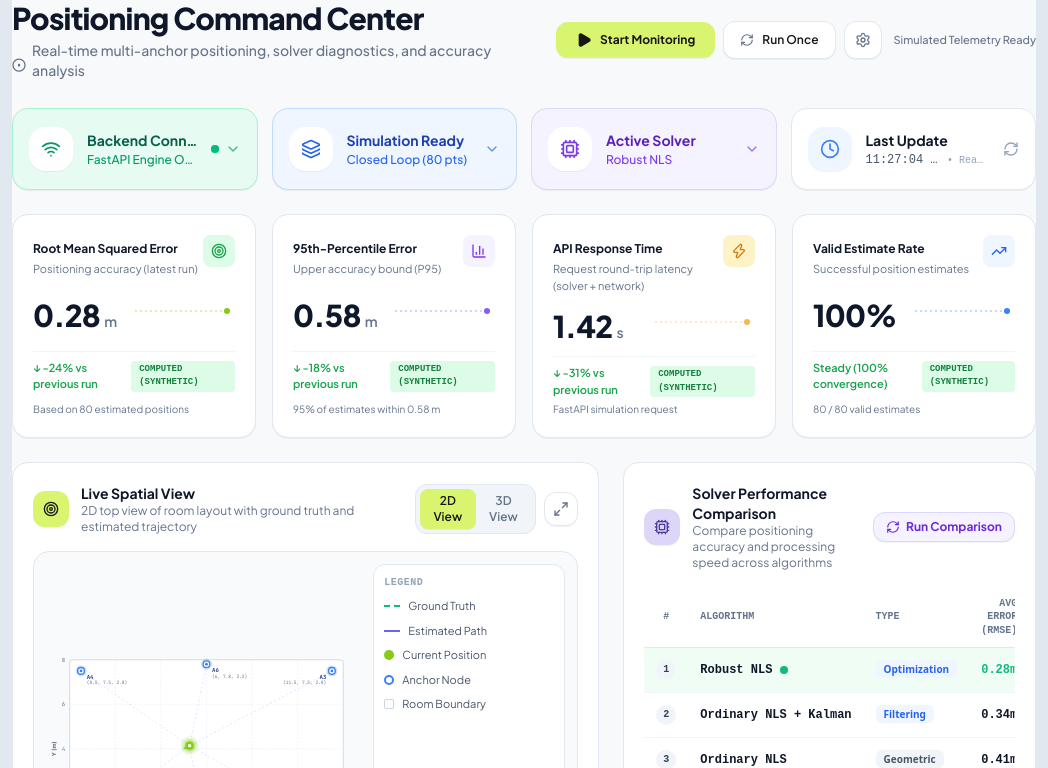
Phase 6.3: Dynamic Live Telemetry Command Center › updates latest metrics, trajectory, and recent activity from successful API response
The width and height of the screenshot is (1048, 768).
Click the button "Run Once" at (779, 40), box x1=723 y1=21 x2=836 y2=59
(page scrolled)
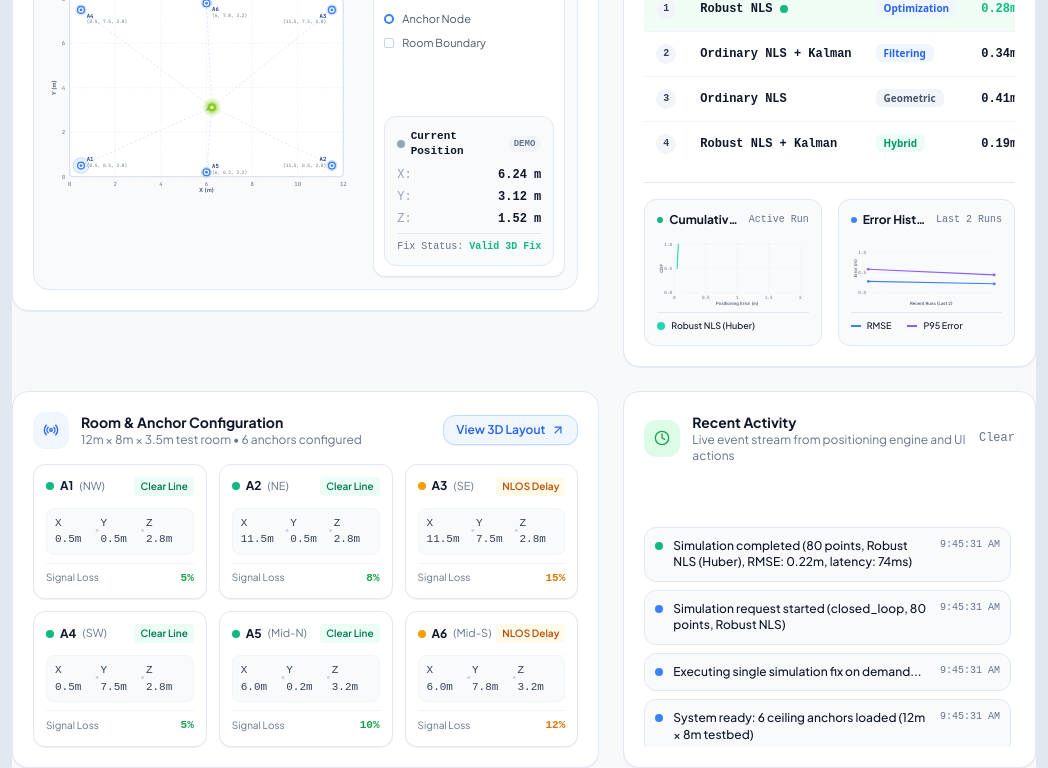
Expected: the text "Simulation completed (80 points, Robust NLS" is shown, x1=673 y1=538 x2=912 y2=569
